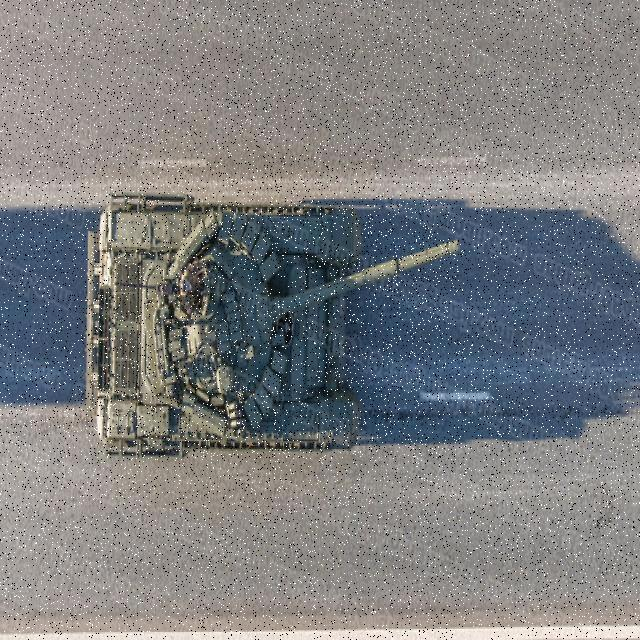MIL_MBT: (89, 201, 459, 458)
